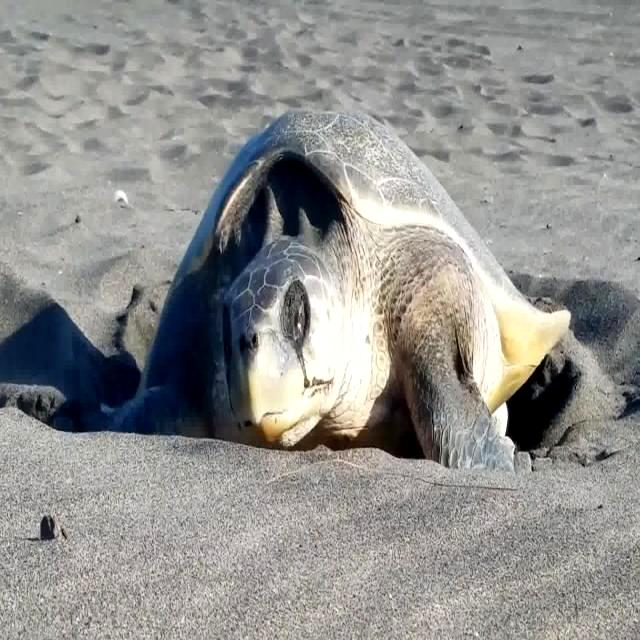Sea turtle: (62, 108, 566, 484)
